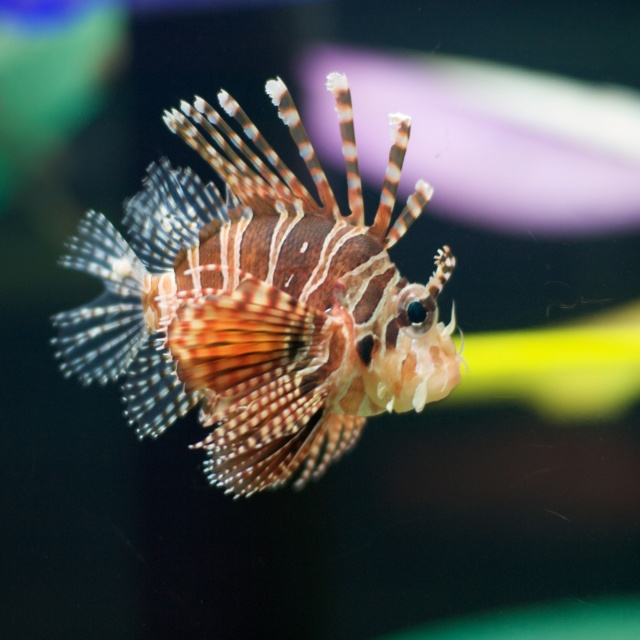Fish: (42, 73, 472, 514)
